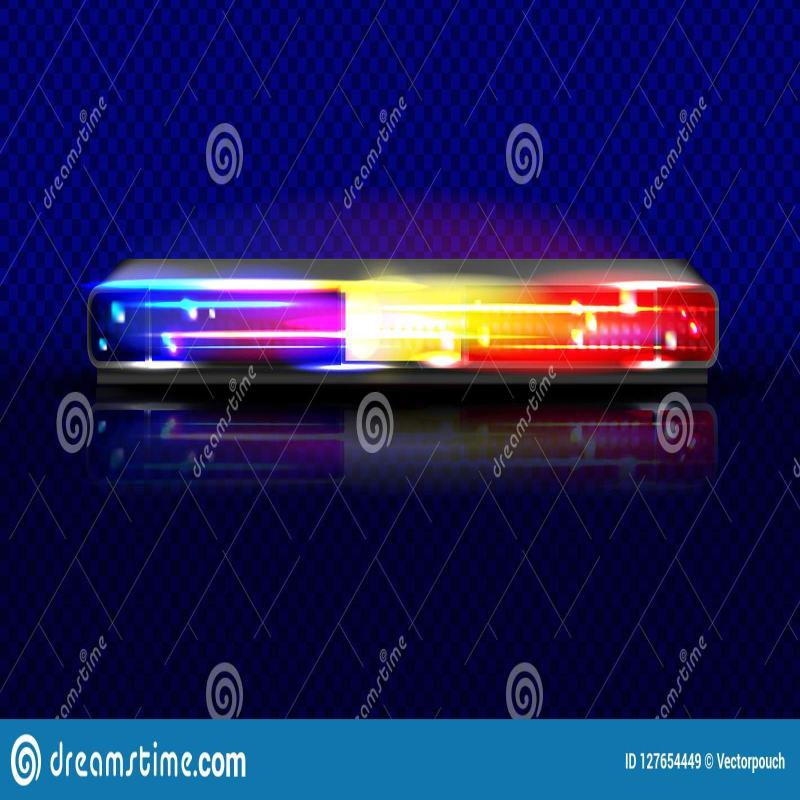AmbulanceSiren: (48, 198, 749, 427)
